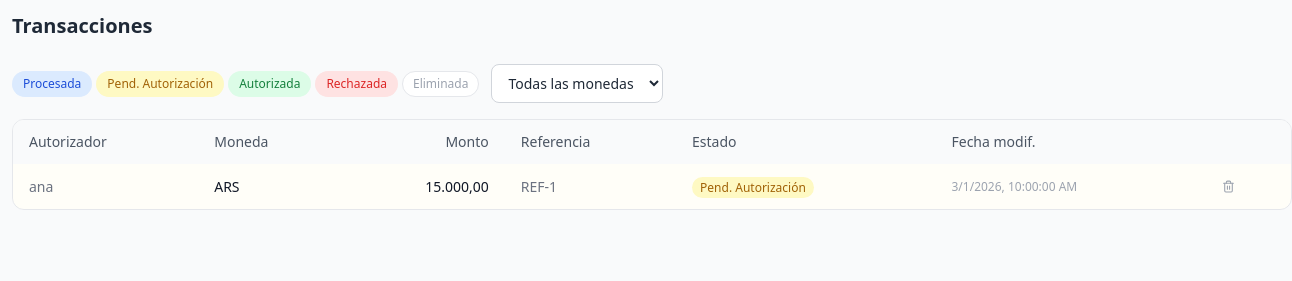
Test case: TransactionsPage — eliminar › muestra el error si la baja falla
Step 1. Click the button titled "Eliminar" → (1228, 186), box [1218,176,1239,197]
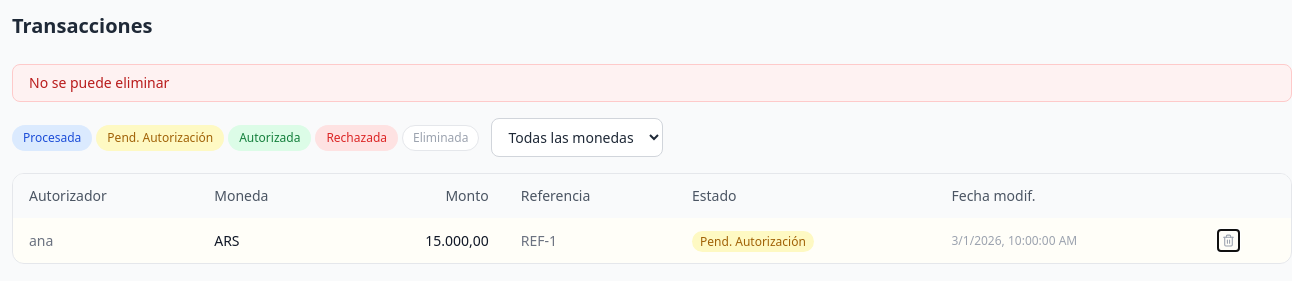
Check: the text "No se puede eliminar" is shown, box [12,64,1291,102]
